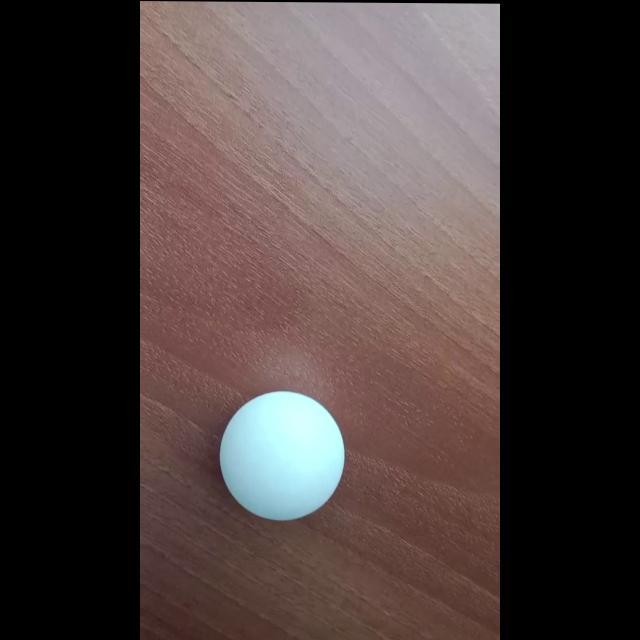white ball: (219, 390, 345, 523)
